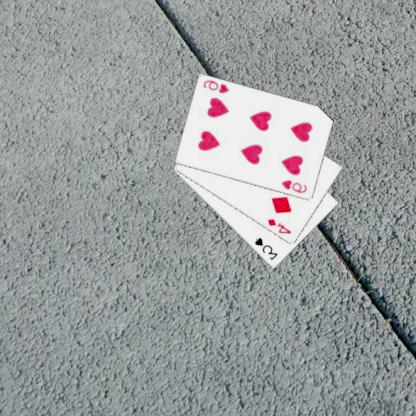3S: (254, 235, 281, 261)
4D: (267, 216, 294, 236)
6H: (202, 77, 232, 95), (281, 177, 310, 195)
